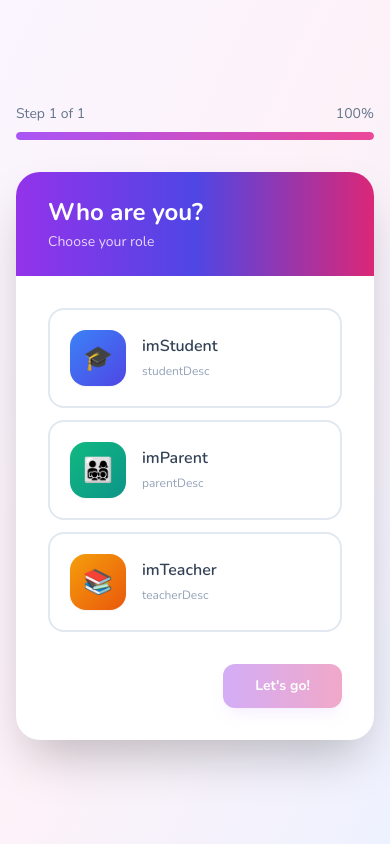
Test: OnboardingPage › enables Next after selecting student role
Step 1. Click the text "imStudent" → {"x": 180, "y": 346}, box top-left (142, 334), bottom-right (218, 358)
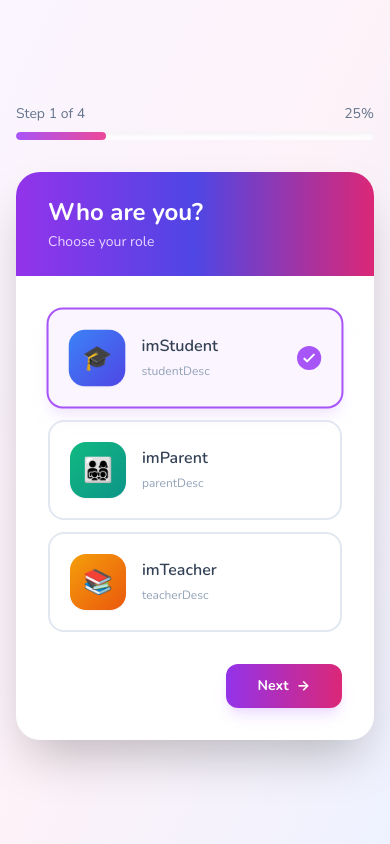
Expected: the button "Next →" is enabled, top-left (226, 664), bottom-right (342, 708)
